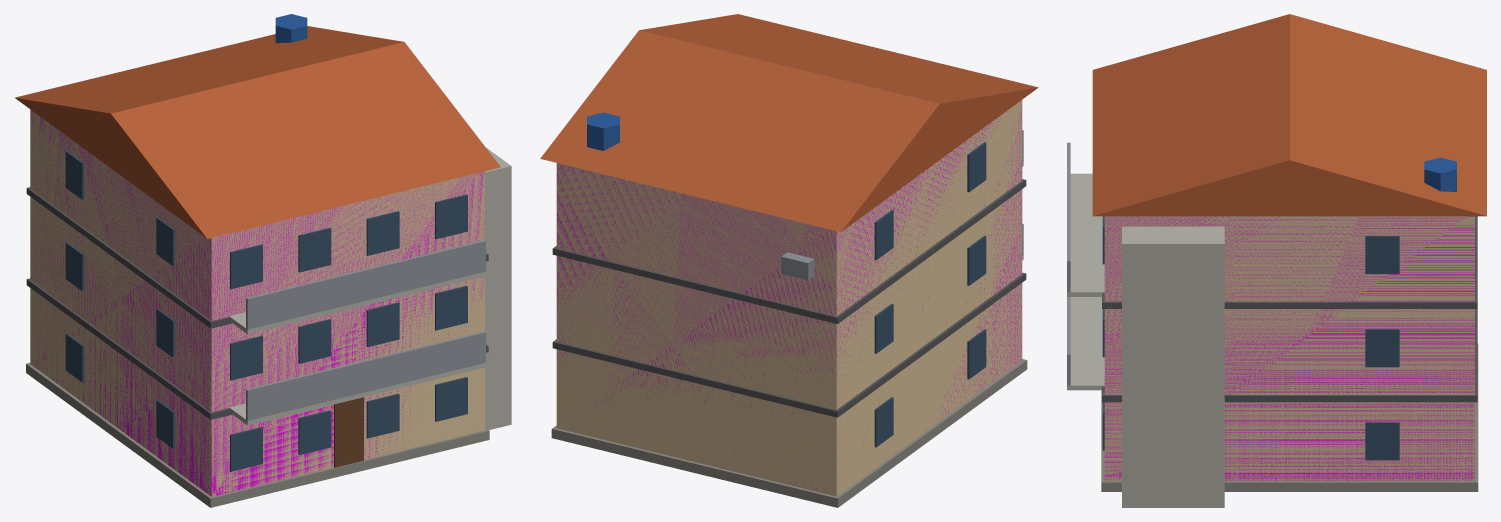
The model's file is Apartment_3S_02.glb.
3 renders of one model, left to right at view 1: azimuth 30°, elevation 25°; view 2: azimuth 150°, elevation 25°; view 3: azimuth 270°, elevation 25°, orthographic. The views are drawn at different scales.
Visible parts, largest first — view 1: Apartment_3S_02, Apartment_3S_02_COL; view 2: Apartment_3S_02, Apartment_3S_02_COL; view 3: Apartment_3S_02, Apartment_3S_02_COL.
Part boxes in pixels (x1,y1,x2,y2): Apartment_3S_02: (15,14,511,507); Apartment_3S_02_COL: (30,111,484,496); Apartment_3S_02: (540,14,1038,507); Apartment_3S_02_COL: (556,101,1022,490); Apartment_3S_02: (1067,14,1486,507); Apartment_3S_02_COL: (1104,216,1474,481).
Bounding box in the file's own units: 10.95 × 10.8 × 12.25.
